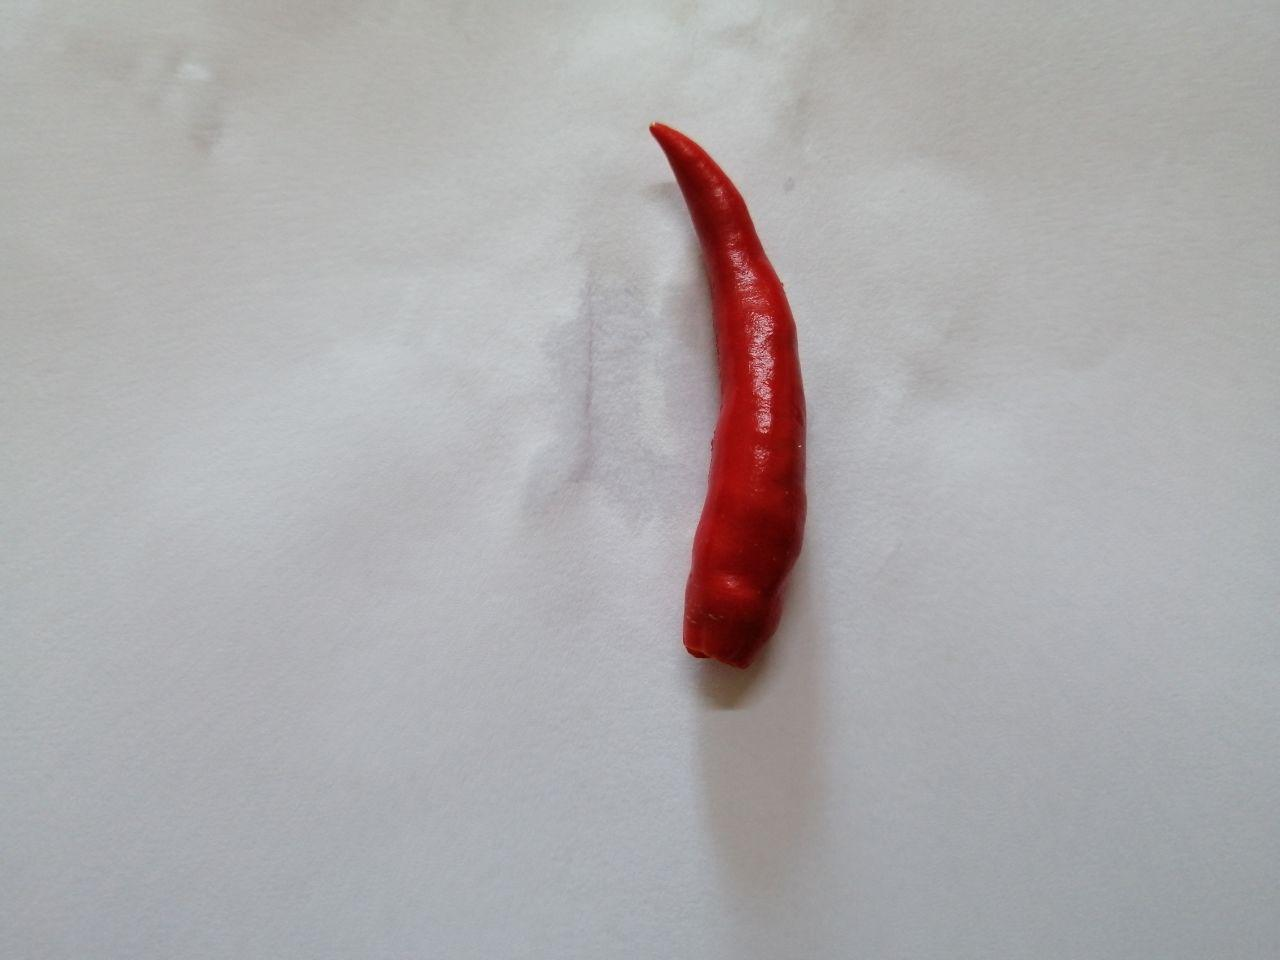lada merah: (622, 109, 849, 696)
